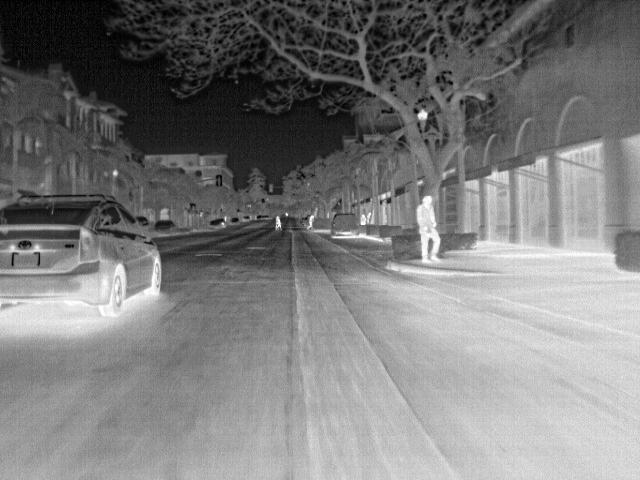car: (0, 192, 166, 320), (331, 209, 363, 240), (152, 220, 178, 236), (207, 218, 224, 232), (228, 215, 241, 226), (238, 213, 251, 224)
person: (413, 193, 446, 266), (303, 212, 315, 230), (273, 213, 285, 230)
